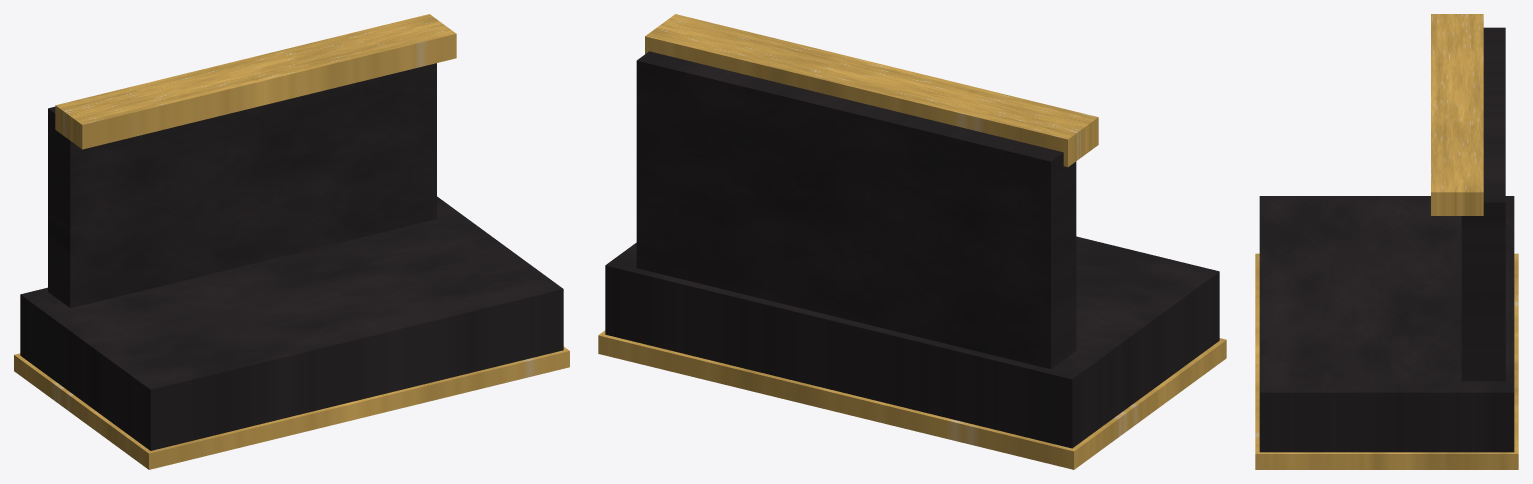
File: rival_vey_mantle.obj
The picture shows the model from 3 angles, left to right: view 1: azimuth 30°, elevation 25°; view 2: azimuth 150°, elevation 25°; view 3: azimuth 270°, elevation 25°; orthographic projection. The views are drawn at different scales.
Parts seen in each view (by area): view 1: rival_vey_mantle; view 2: rival_vey_mantle; view 3: rival_vey_mantle.
Part boxes in pixels (<box>): rival_vey_mantle: <box>14,14,569,469</box>; rival_vey_mantle: <box>598,14,1226,469</box>; rival_vey_mantle: <box>1255,14,1518,469</box>.
Size of the model in its own units: 0.675 by 0.4188 by 0.375.
